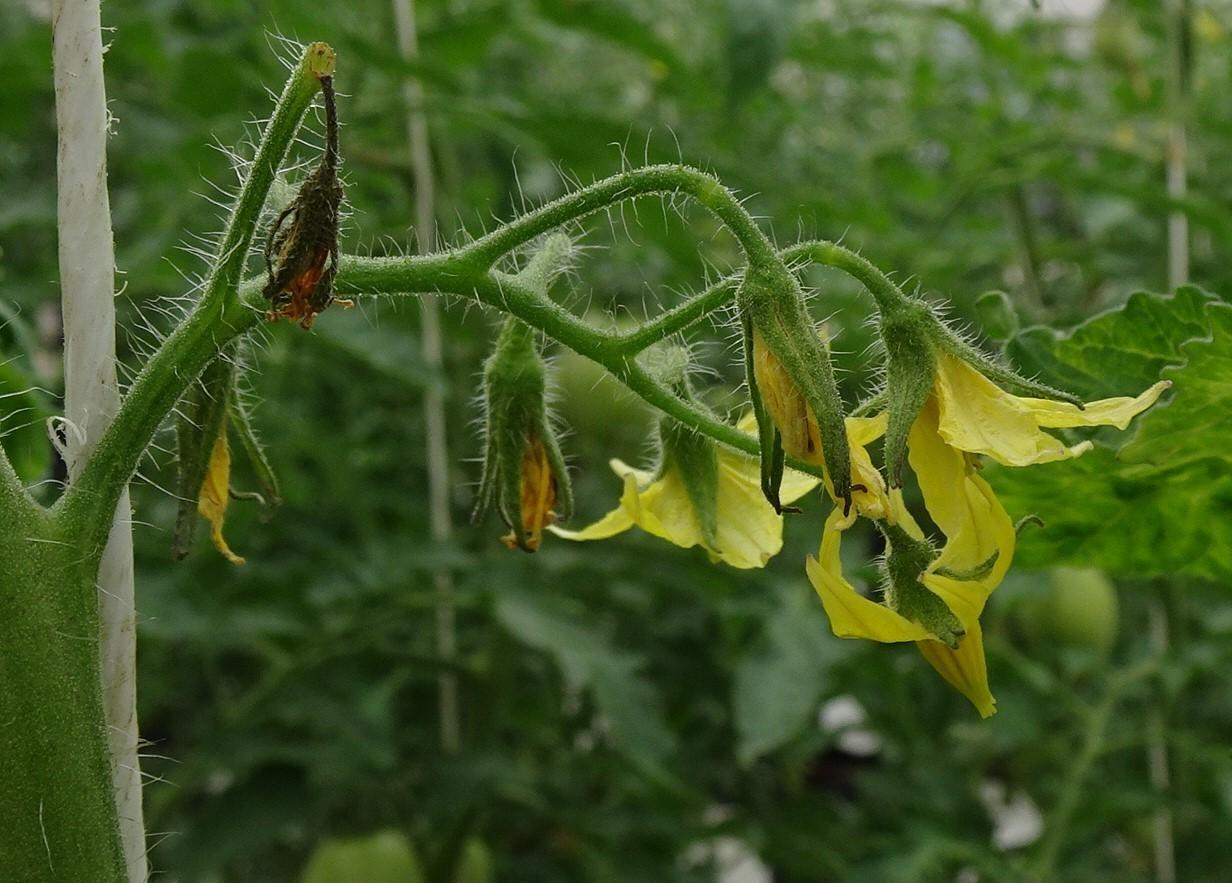Rugose Flower: (808, 350, 1172, 718), (751, 330, 837, 514)
Rugose stem: (51, 43, 334, 578), (623, 166, 852, 505), (474, 270, 758, 454), (337, 173, 642, 296)
